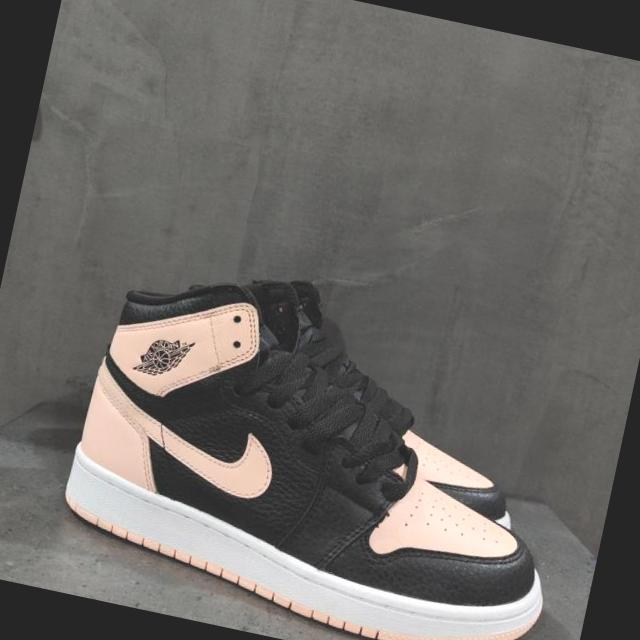nike_fake_jordan: (41, 243, 590, 640)
